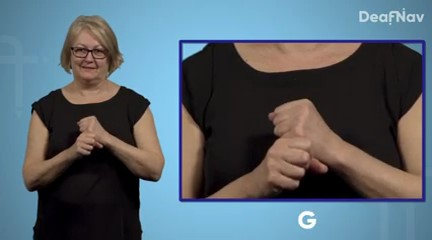G: (69, 109, 112, 167)
